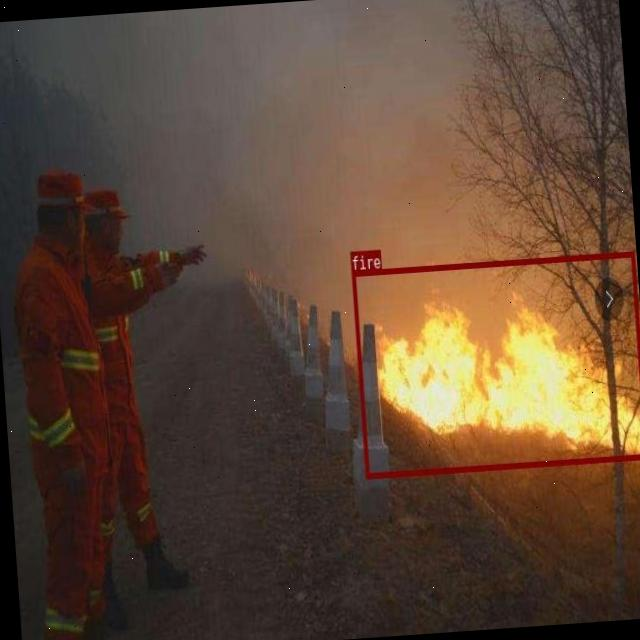fire: (351, 251, 640, 478)
